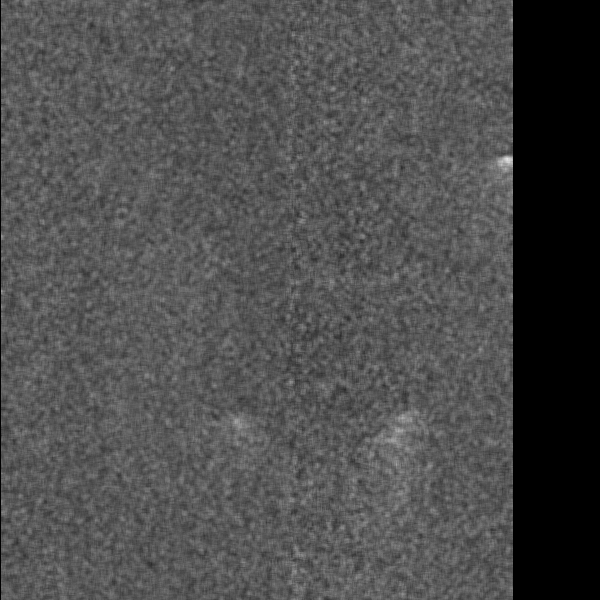spark: (57, 408, 217, 478), (135, 227, 181, 261), (124, 508, 167, 543), (113, 335, 146, 369), (112, 552, 147, 575), (60, 323, 103, 341)
